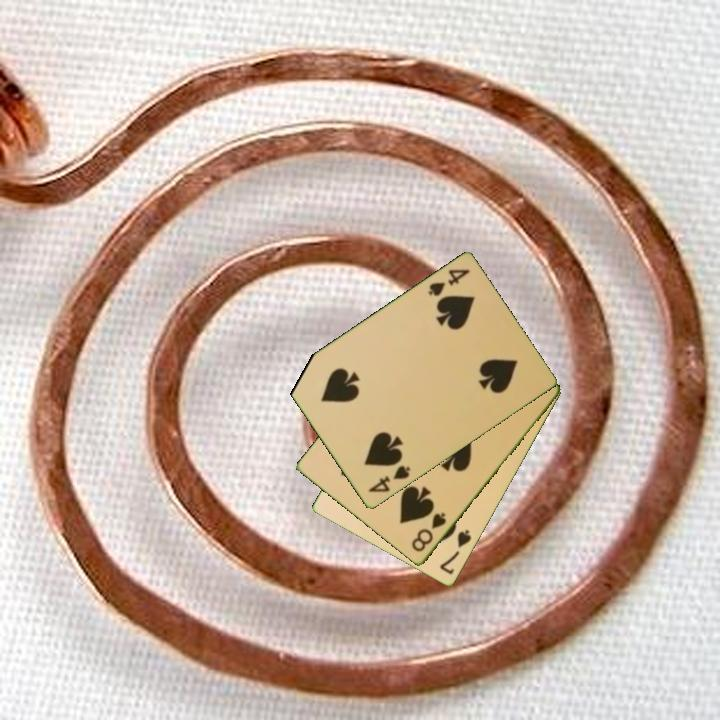4s: (424, 266, 473, 300), (365, 462, 413, 496)
7s: (436, 526, 475, 578)
8s: (408, 509, 449, 555)
